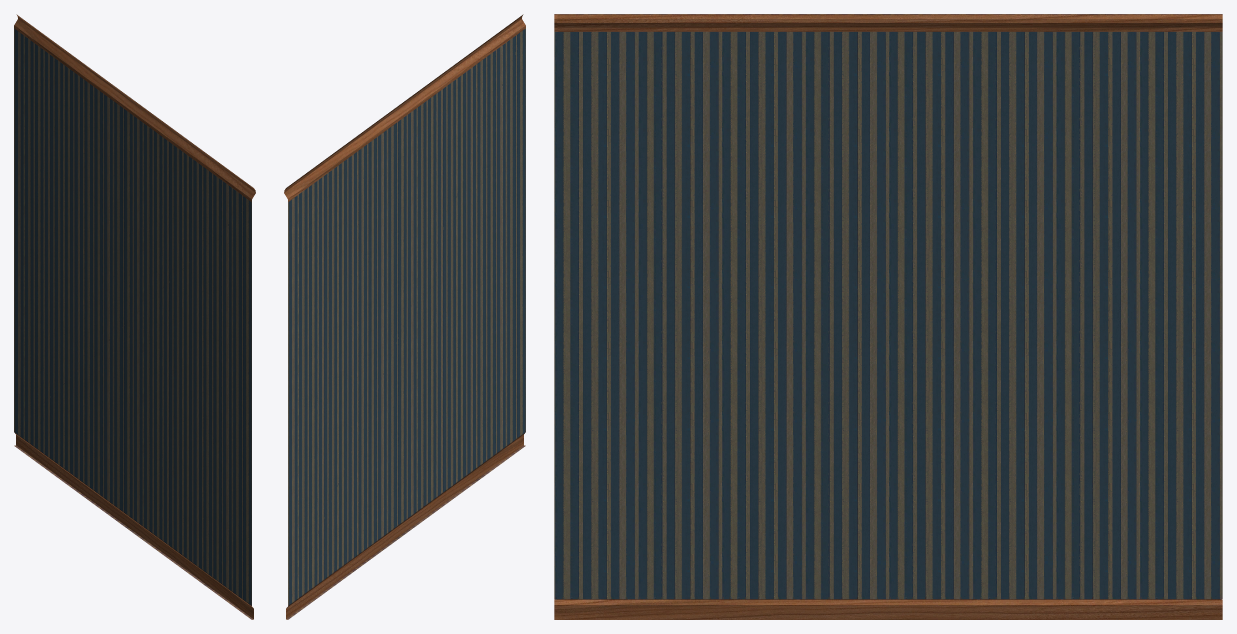
File: blue_stripes.dae
3 views of the same model, side by side, from view 1: azimuth 30°, elevation 25°; view 2: azimuth 150°, elevation 25°; view 3: azimuth 270°, elevation 25° (orthographic). The views are drawn at different scales.
Parts seen in each view (by area): view 1: Plane_002; view 2: Plane_002; view 3: Plane_002.
Boxes of the visible parts, <box> form: Plane_002: <box>14,14,255,619</box>; Plane_002: <box>284,14,525,619</box>; Plane_002: <box>554,14,1222,619</box>.
Bounding box in the file's own units: 0.0388 × 4 × 4.
